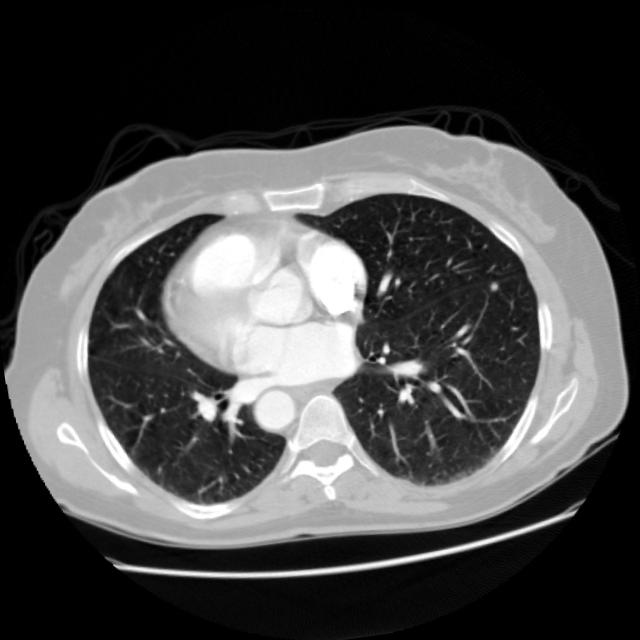nodule: (484, 272, 508, 298)
